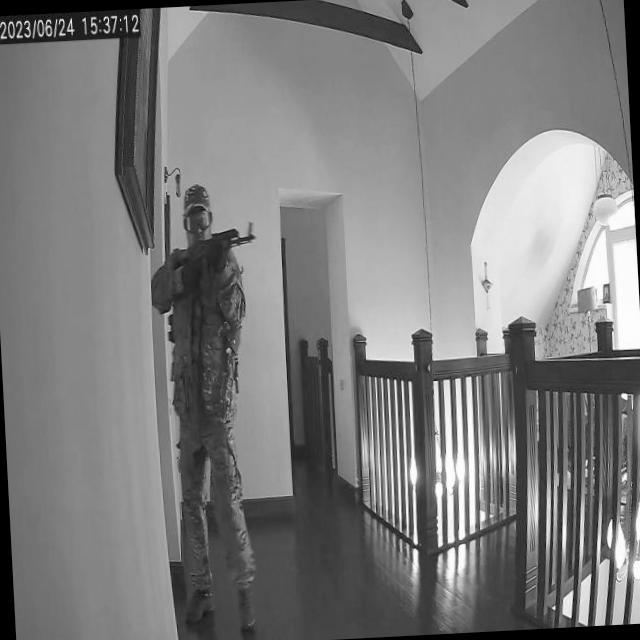gun: (167, 219, 260, 279)
person with a gun: (146, 180, 284, 634)
